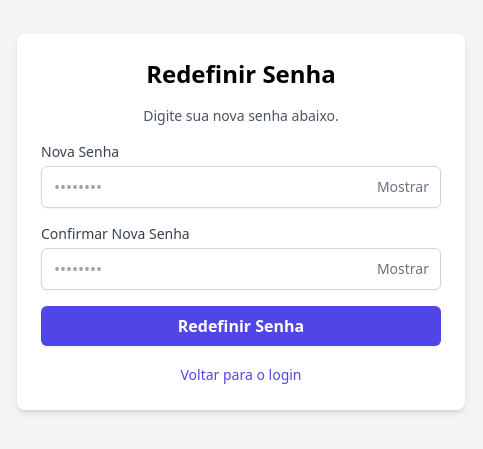
Test: Página ResetPasswordPage › deve validar senhas muito curtas
The width and height of the screenshot is (483, 449).
In the password field labelled "Nova Senha": (241, 187) [41,166,441,208], type "123"
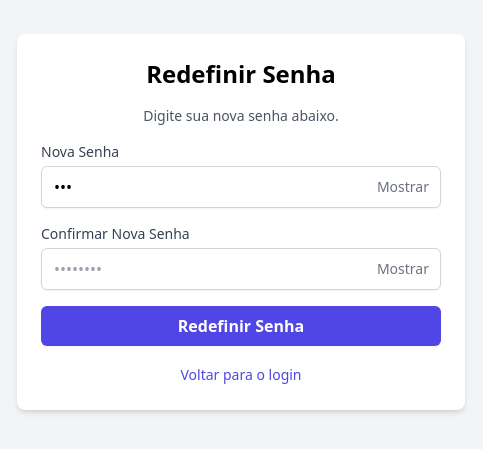
In the password field labelled "Confirmar Nova Senha": (241, 269) [41,248,441,290], type "123"
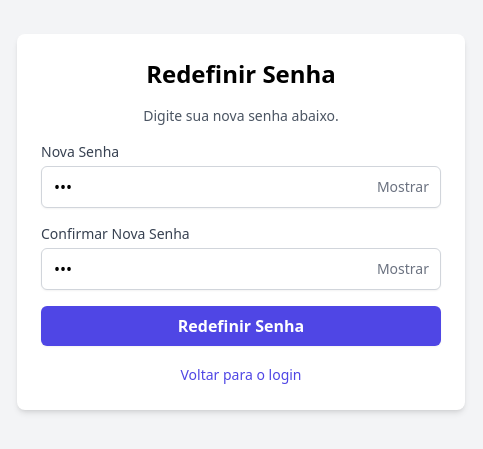
Click the button "Redefinir Senha": click(241, 326) [41,306,441,346]
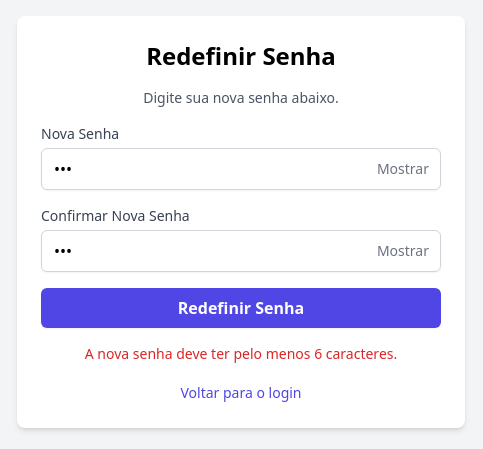
Expected: the text "A nova senha deve ter pelo menos 6 caracteres." is shown, [85,344,397,363]
